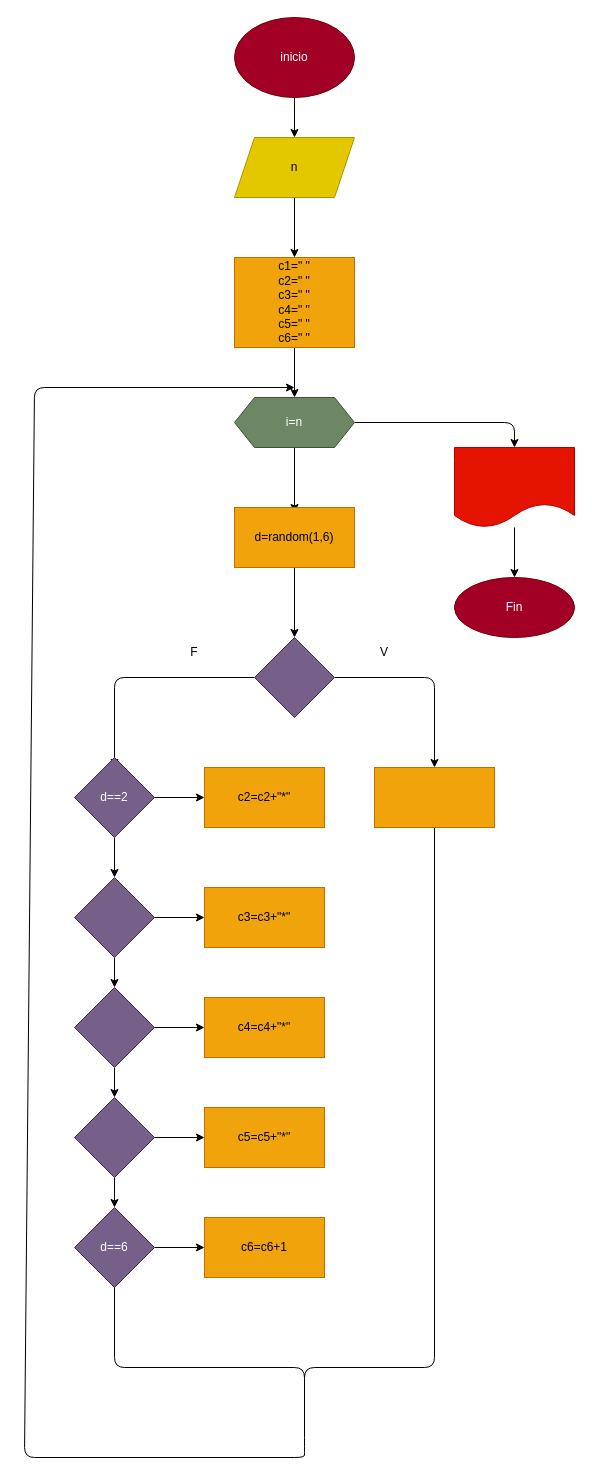
This 592x1483 diagram has some shape labels left out. The shapes that lost their labels are listed below. From the top down, each one's centre as x and y in pixels, then its label:
pixel 514 487: c1,c2,c3,c4,c5,c6
pixel 294 677: d==1
pixel 434 797: c1=c1+"*"
pixel 114 917: d==3
pixel 114 1027: d==4
pixel 114 1137: d==5
